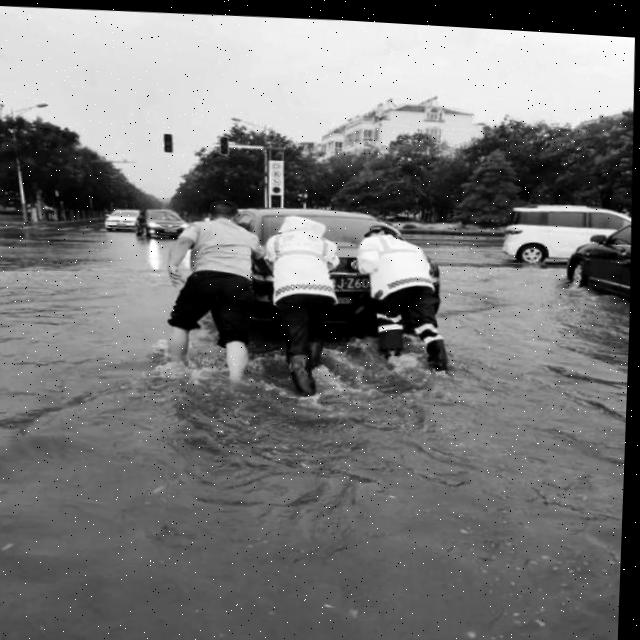civilian: (158, 185, 275, 408)
rescuer: (251, 203, 347, 410), (357, 210, 458, 378)
